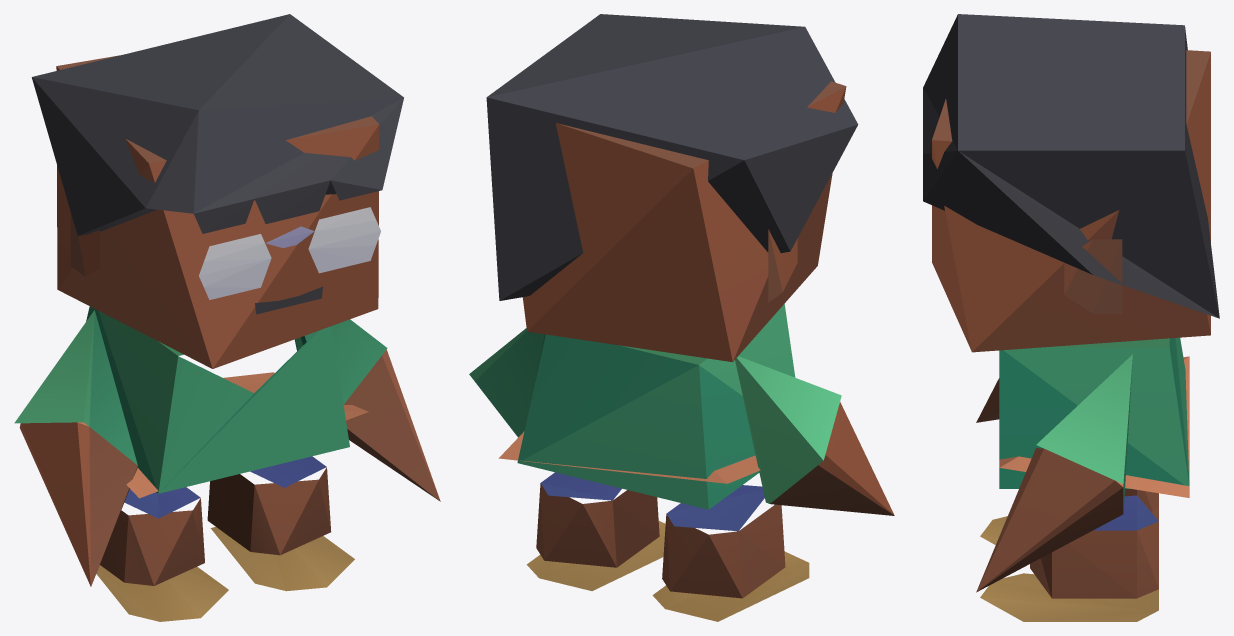
Rendered from person-male-a.glb.
3 renders of one model, left to right at view 1: azimuth 30°, elevation 25°; view 2: azimuth 150°, elevation 25°; view 3: azimuth 270°, elevation 25°, orthographic.
Visible parts, largest first — view 1: character-male-a; view 2: character-male-a; view 3: character-male-a.
Part boxes in pixels (x1,y1,x2,y2): character-male-a: (14,14,440,621); character-male-a: (469,14,894,621); character-male-a: (923,14,1219,621).
Size of the model in its own units: 1.19 by 1.66 by 0.867.
